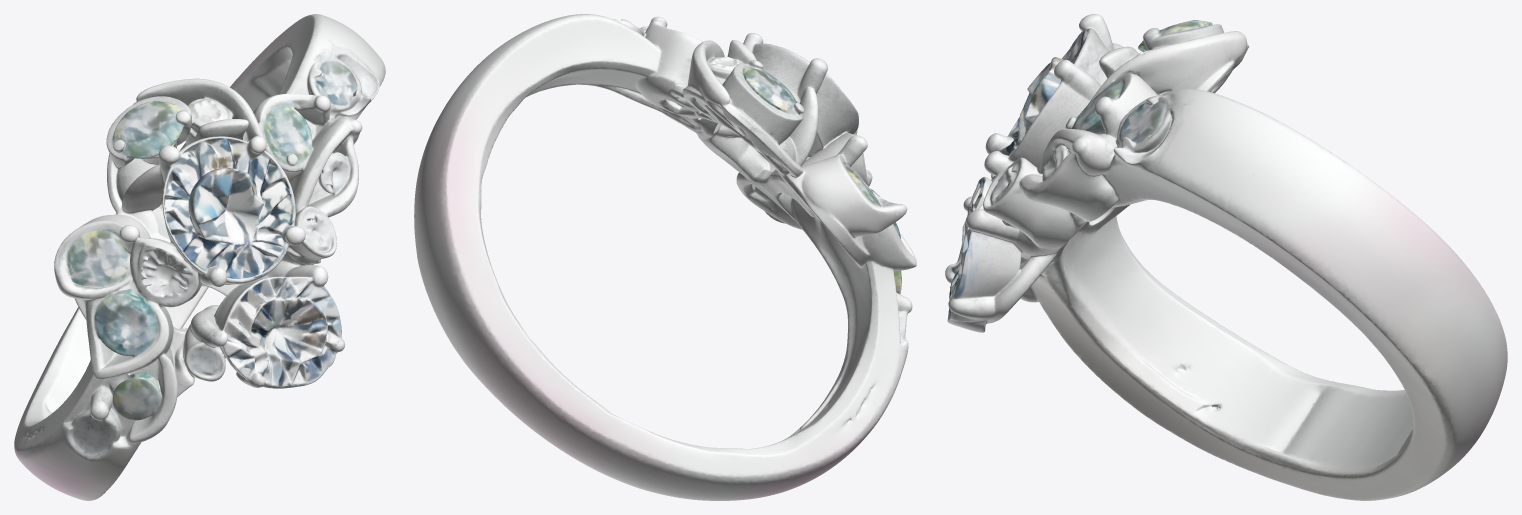
3 renders of one model, left to right at view 1: azimuth 30°, elevation 25°; view 2: azimuth 150°, elevation 25°; view 3: azimuth 270°, elevation 25°, orthographic. The views are drawn at different scales.
Size of the model in its own units: 0.8594 by 0.8641 by 0.873.
1 material, 1 textured.
